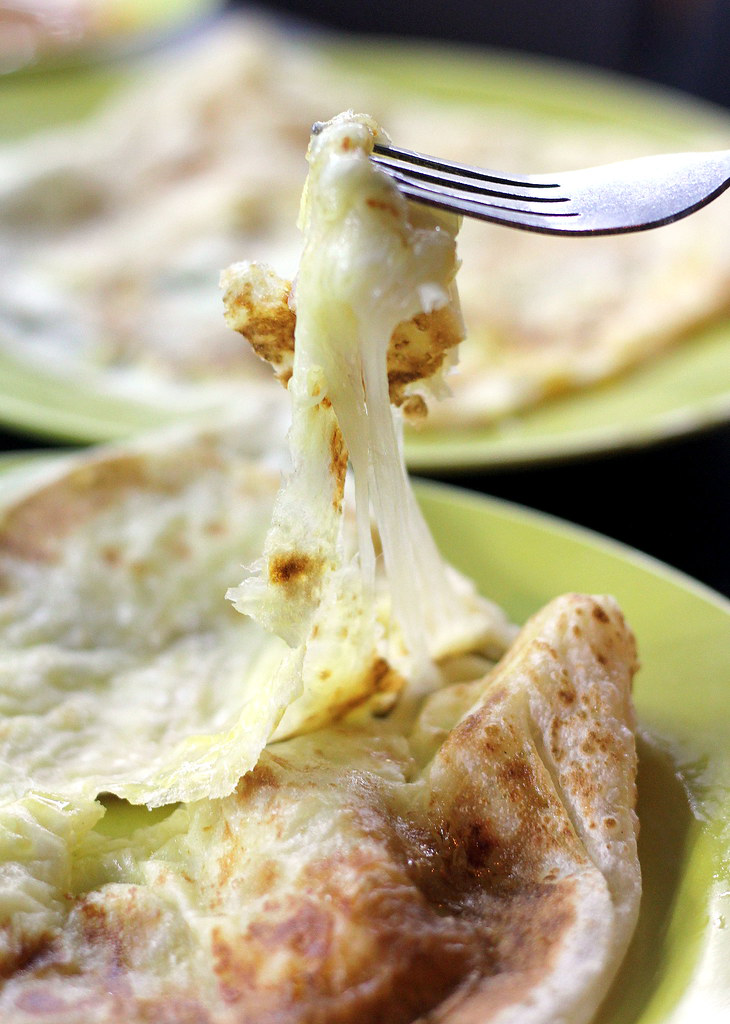Prata: (17, 597, 675, 1016)
